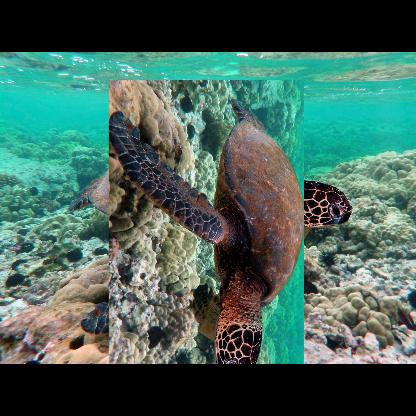turtle: (79, 110, 332, 362)
